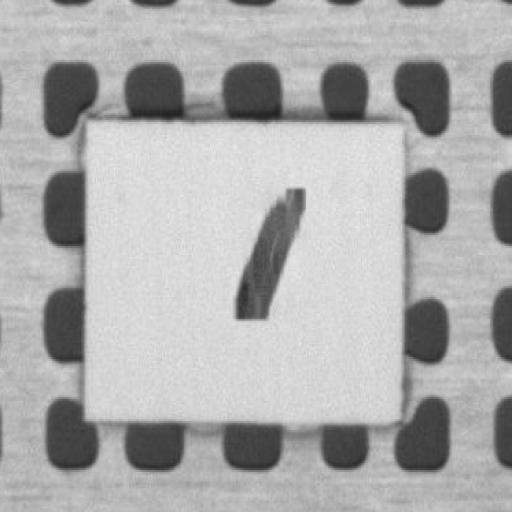DIE_INK: (292, 130, 419, 248)
